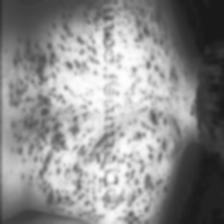Non-Cancerous Skin Condition: (10, 38, 96, 172)
